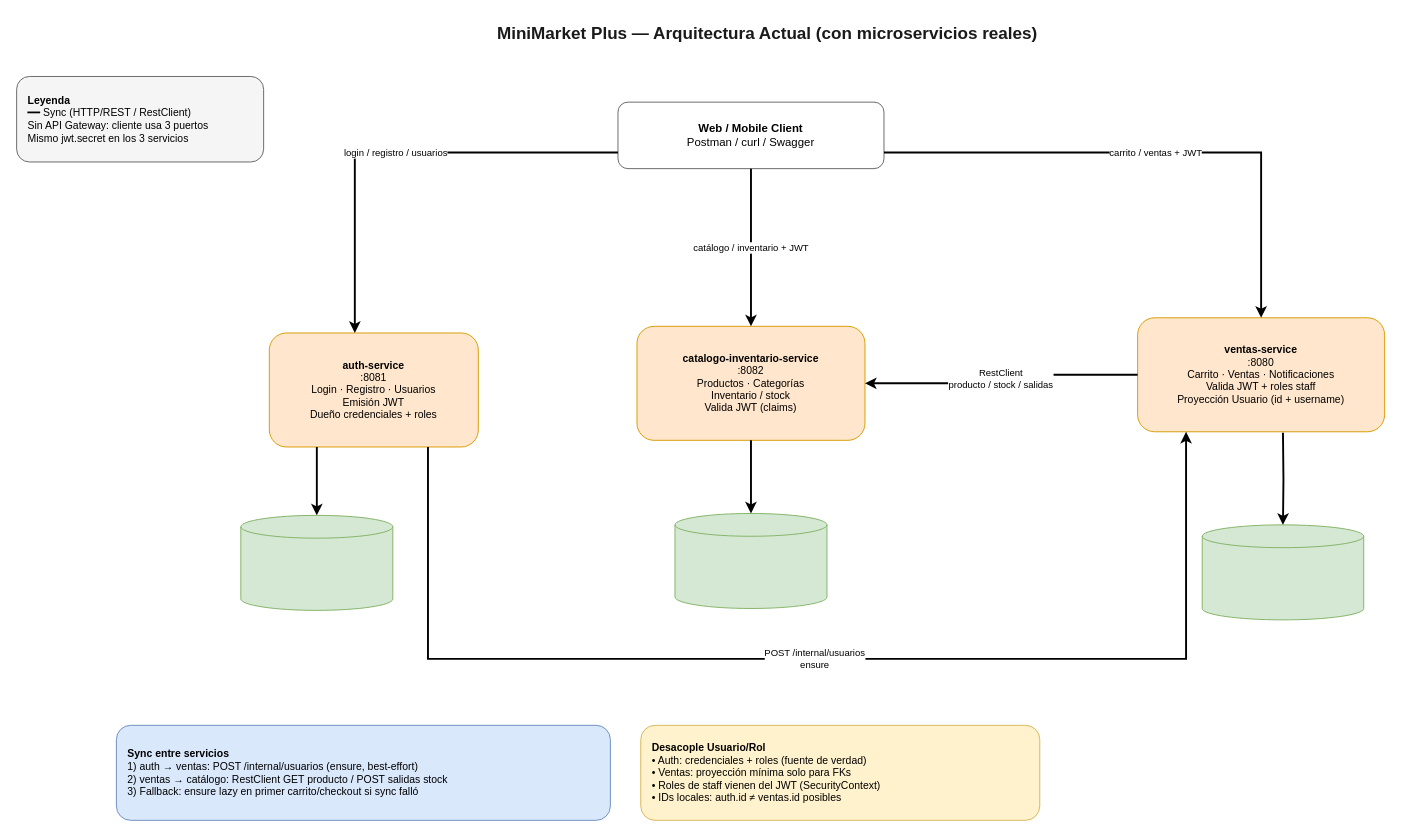
This 1401x837 diagram has some shape labels left out. The centre of each missing label's shape, as x and y in pixels:
AuthDB H2 authdb Usuario + Rol + password: point 316,562
CatalogoDB H2 catalogodb productos · categorías inventario: point 750,560
VentasDB H2 minimarketdb Usuario (id, username) carrito · ventas · notif.: point 1282,572
